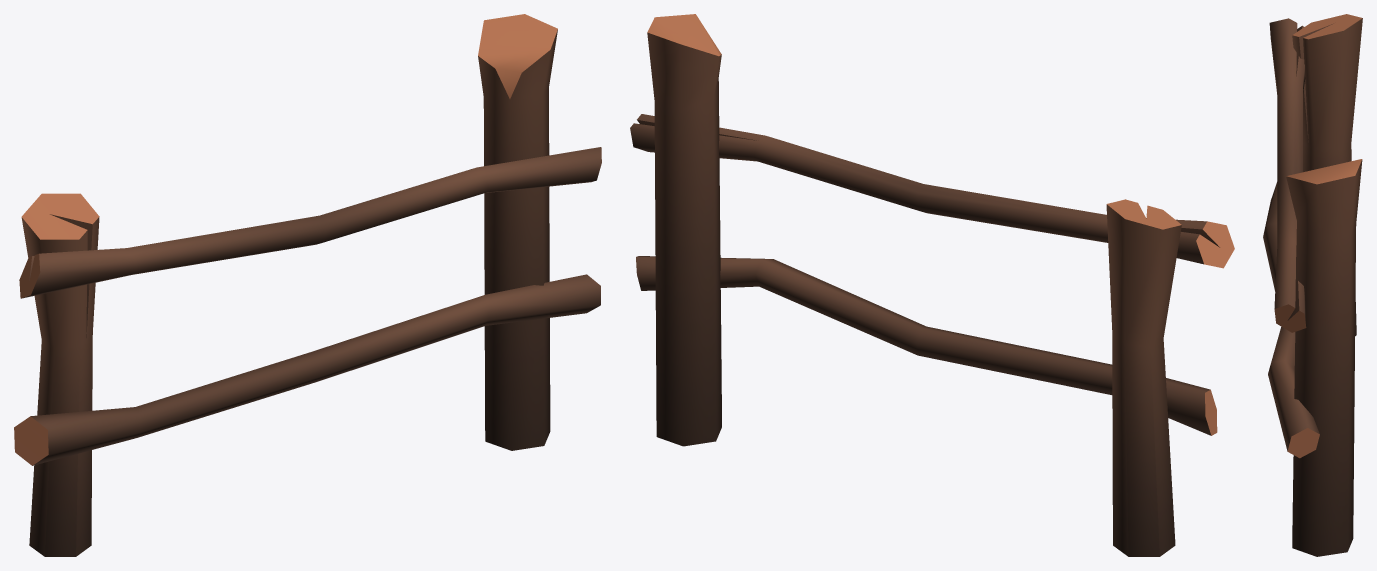
Rendered from Fence_2A.FBX.
The picture shows the model from 3 angles, left to right: view 1: azimuth 30°, elevation 25°; view 2: azimuth 150°, elevation 25°; view 3: azimuth 270°, elevation 25°; orthographic projection. The views are drawn at different scales.
Visible parts, largest first — view 1: Fence_2A; view 2: Fence_2A; view 3: Fence_2A.
Part boxes in pixels (box(x1,y1,x2,y2)): Fence_2A: box(14, 14, 601, 556); Fence_2A: box(630, 14, 1234, 556); Fence_2A: box(1263, 14, 1362, 556).
Bounding box in the file's own units: 200 × 132 × 31.65.
